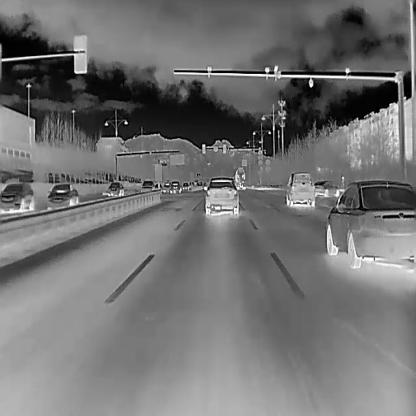car: (326, 179, 415, 267), (203, 175, 239, 217), (285, 170, 315, 206), (0, 182, 34, 213), (46, 182, 78, 209), (312, 178, 340, 196), (106, 180, 123, 196), (140, 178, 154, 192), (170, 180, 181, 192), (162, 180, 171, 192), (154, 181, 163, 192), (181, 180, 188, 190), (188, 178, 194, 188)
truck: (233, 166, 246, 190)
